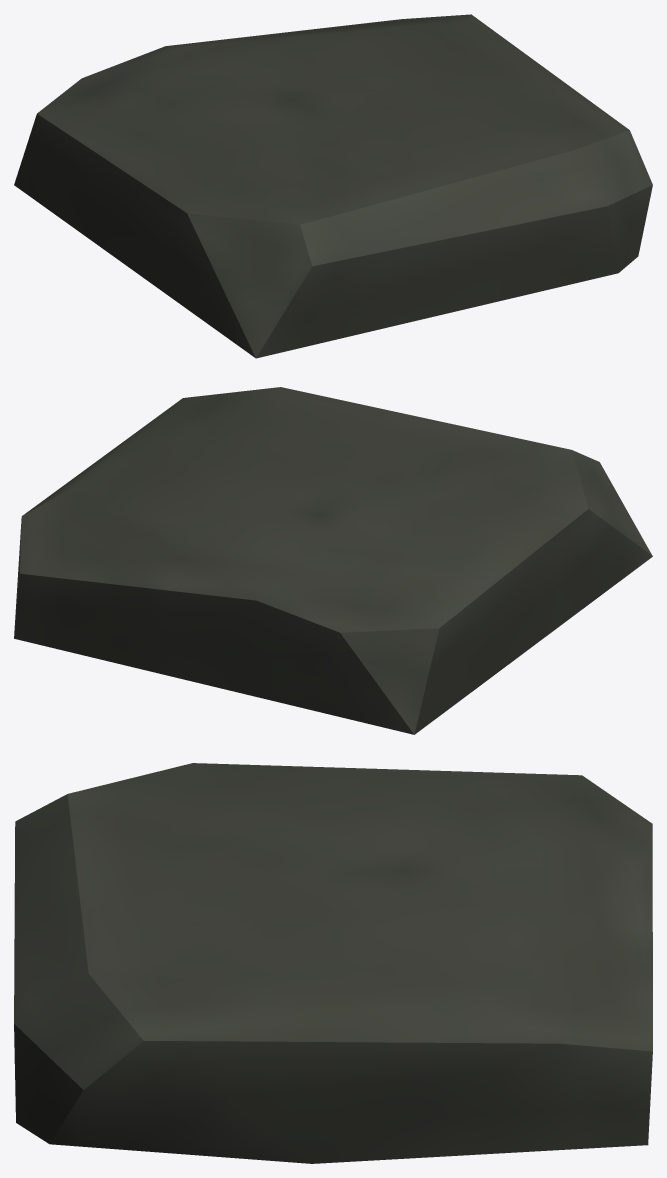
Rendered from Floor6.fbx.
3 views of the same model, one above another, from view 1: azimuth 30°, elevation 25°; view 2: azimuth 150°, elevation 25°; view 3: azimuth 270°, elevation 25° (orthographic). The views are drawn at different scales.
Visible parts, largest first — view 1: Floor6; view 2: Floor6; view 3: Floor6.
Boxes of the visible parts, x1,y1,x2,y2 form: Floor6: (14, 14, 652, 358); Floor6: (14, 387, 652, 734); Floor6: (14, 763, 652, 1163).
Bounding box in the file's own units: 92.37 × 22.15 × 91.46.
Materials: 1 (1 with a texture image).
